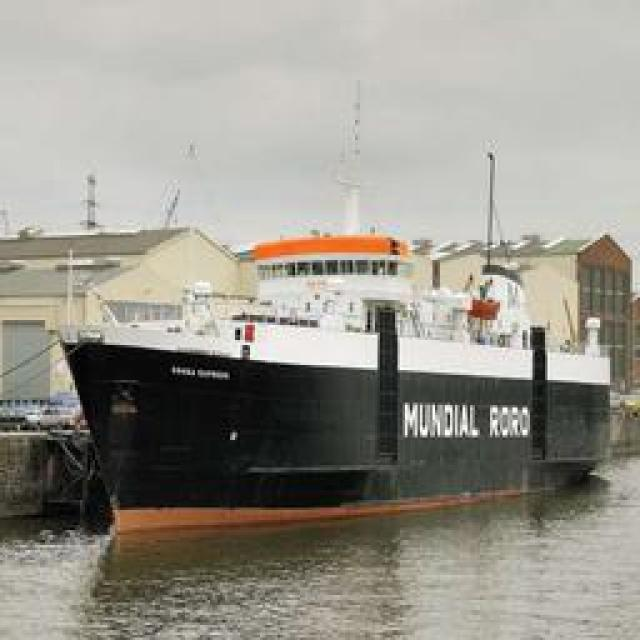CIV_Ship: (51, 202, 616, 526)
